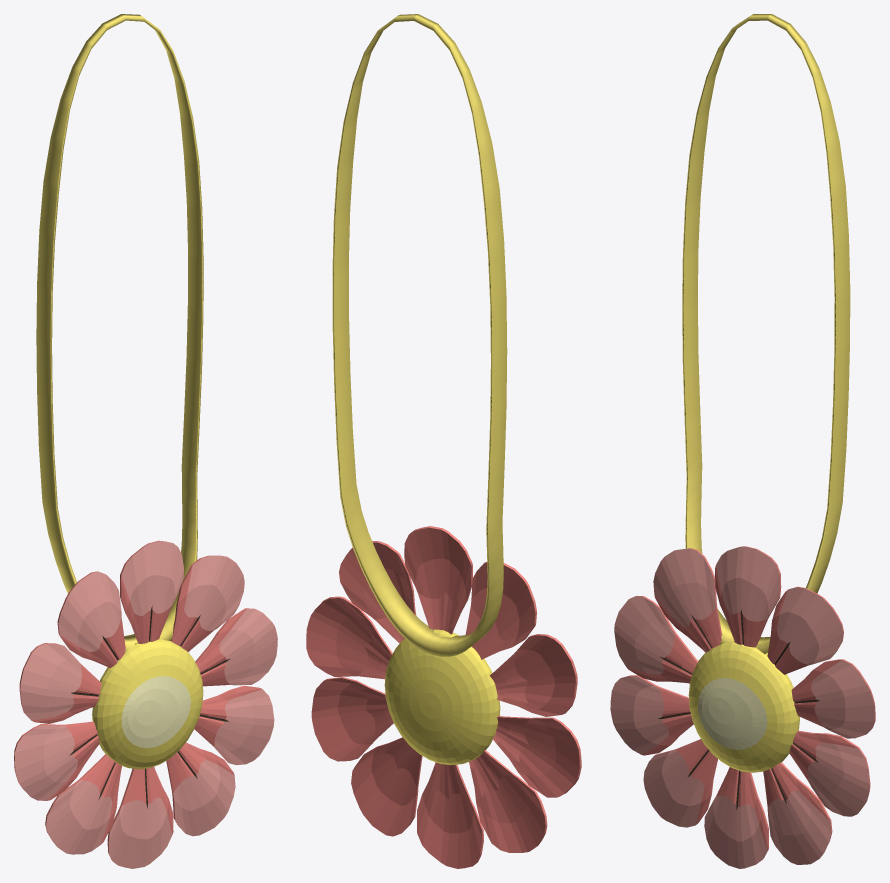
File: Necklace.fbx
3 views of the same model, side by side, from view 1: azimuth 30°, elevation 25°; view 2: azimuth 150°, elevation 25°; view 3: azimuth 330°, elevation 25° (orthographic). The views are drawn at different scales.
Parts seen in each view (by area): view 1: Necklace; view 2: Necklace; view 3: Necklace.
Part boxes in pixels (x1,y1,x2,y2): Necklace: (14,14,277,868); Necklace: (306,14,581,868); Necklace: (610,14,875,868).
Size of the model in its own units: 5.65 by 17.1 by 1.62.
